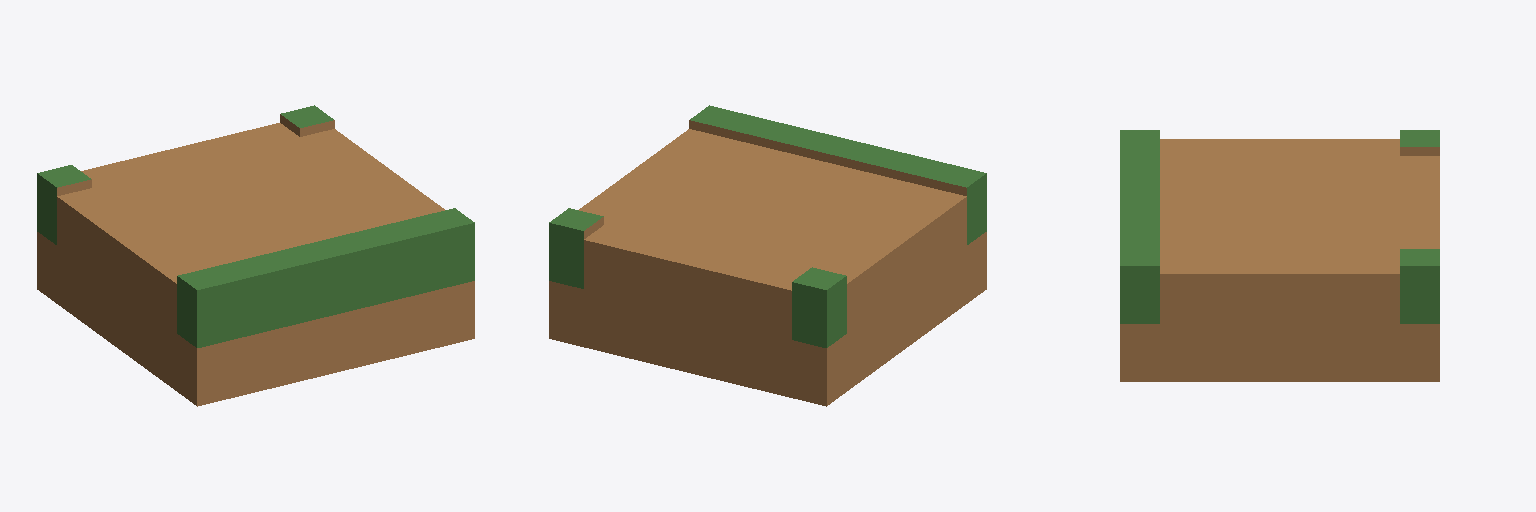
The model's file is tile_097.obj.
3 views of the same model, side by side, from view 1: azimuth 30°, elevation 25°; view 2: azimuth 150°, elevation 25°; view 3: azimuth 270°, elevation 25° (orthographic).
Visible parts, largest first — view 1: tile_097; view 2: tile_097; view 3: tile_097.
Part boxes in pixels (x1,y1,x2,y2): tile_097: (37, 105, 474, 406); tile_097: (549, 105, 986, 406); tile_097: (1120, 130, 1439, 381).
Size of the model in its own units: 1 by 0.4 by 1.